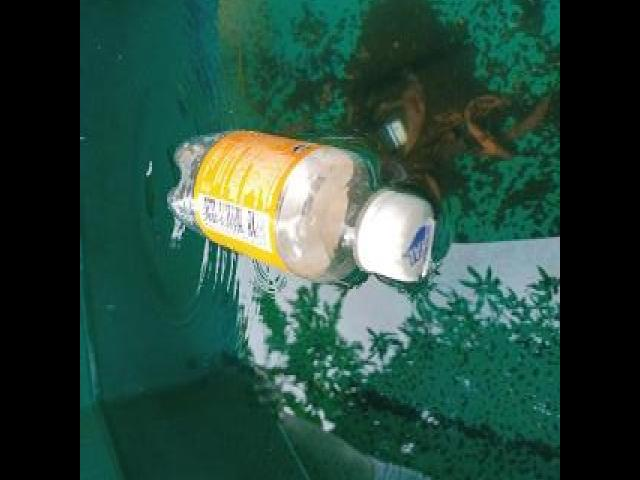Bottle: (163, 124, 439, 292)
